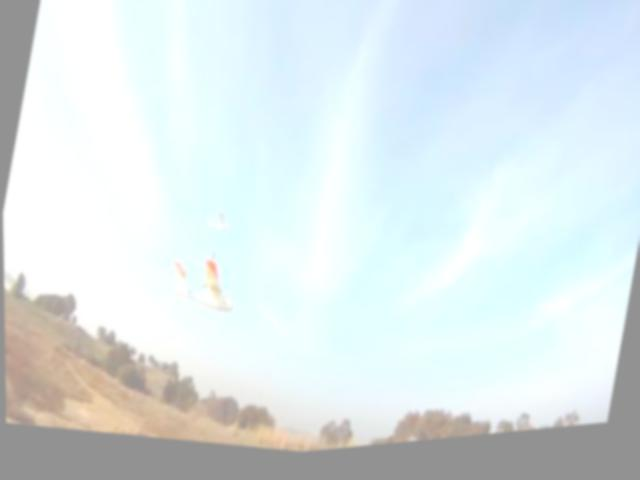uav: (157, 246, 246, 339), (197, 207, 233, 244)
